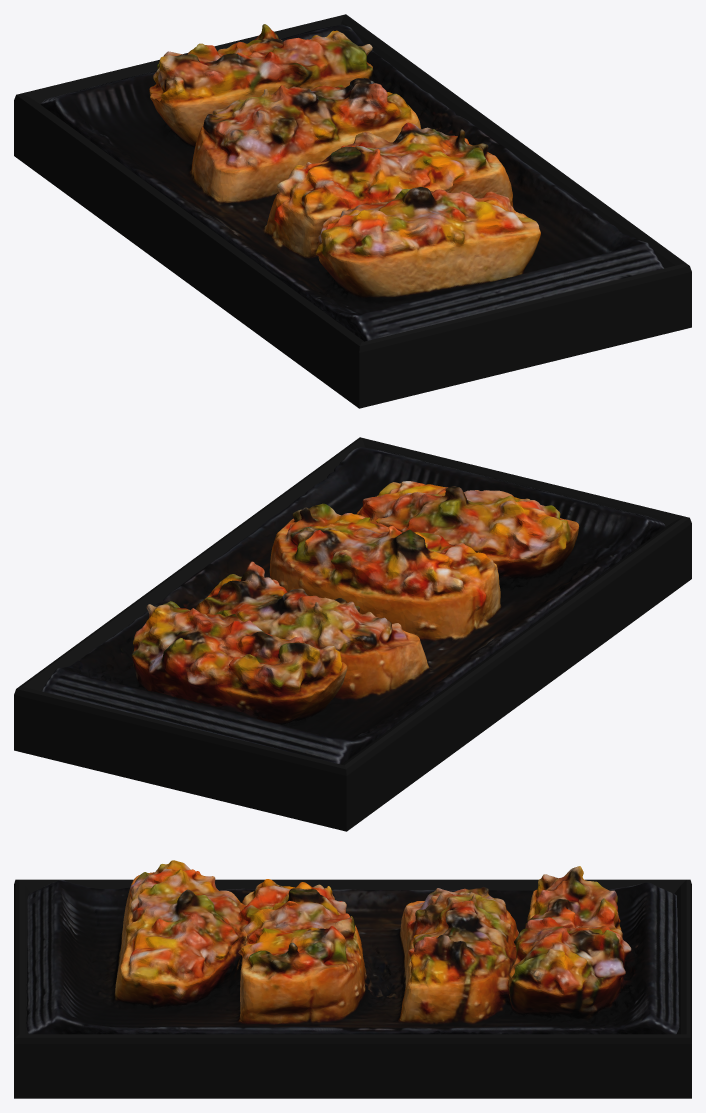
Rendered from bruschetta.glb.
The picture shows the model from 3 angles, top to bottom: view 1: azimuth 30°, elevation 25°; view 2: azimuth 150°, elevation 25°; view 3: azimuth 270°, elevation 25°; orthographic projection.
Visible parts, largest first — view 1: Bruchetta.002_0; view 2: Bruchetta.002_0; view 3: Bruchetta.002_0.
Part boxes in pixels (box(x1,y1,x2,y2)): Bruchetta.002_0: box(14, 14, 691, 408); Bruchetta.002_0: box(14, 437, 691, 831); Bruchetta.002_0: box(14, 860, 691, 1098).
Bounding box in the file's own units: 0.9123 × 0.3162 × 1.64.
Materials: 2 (1 with a texture image).
